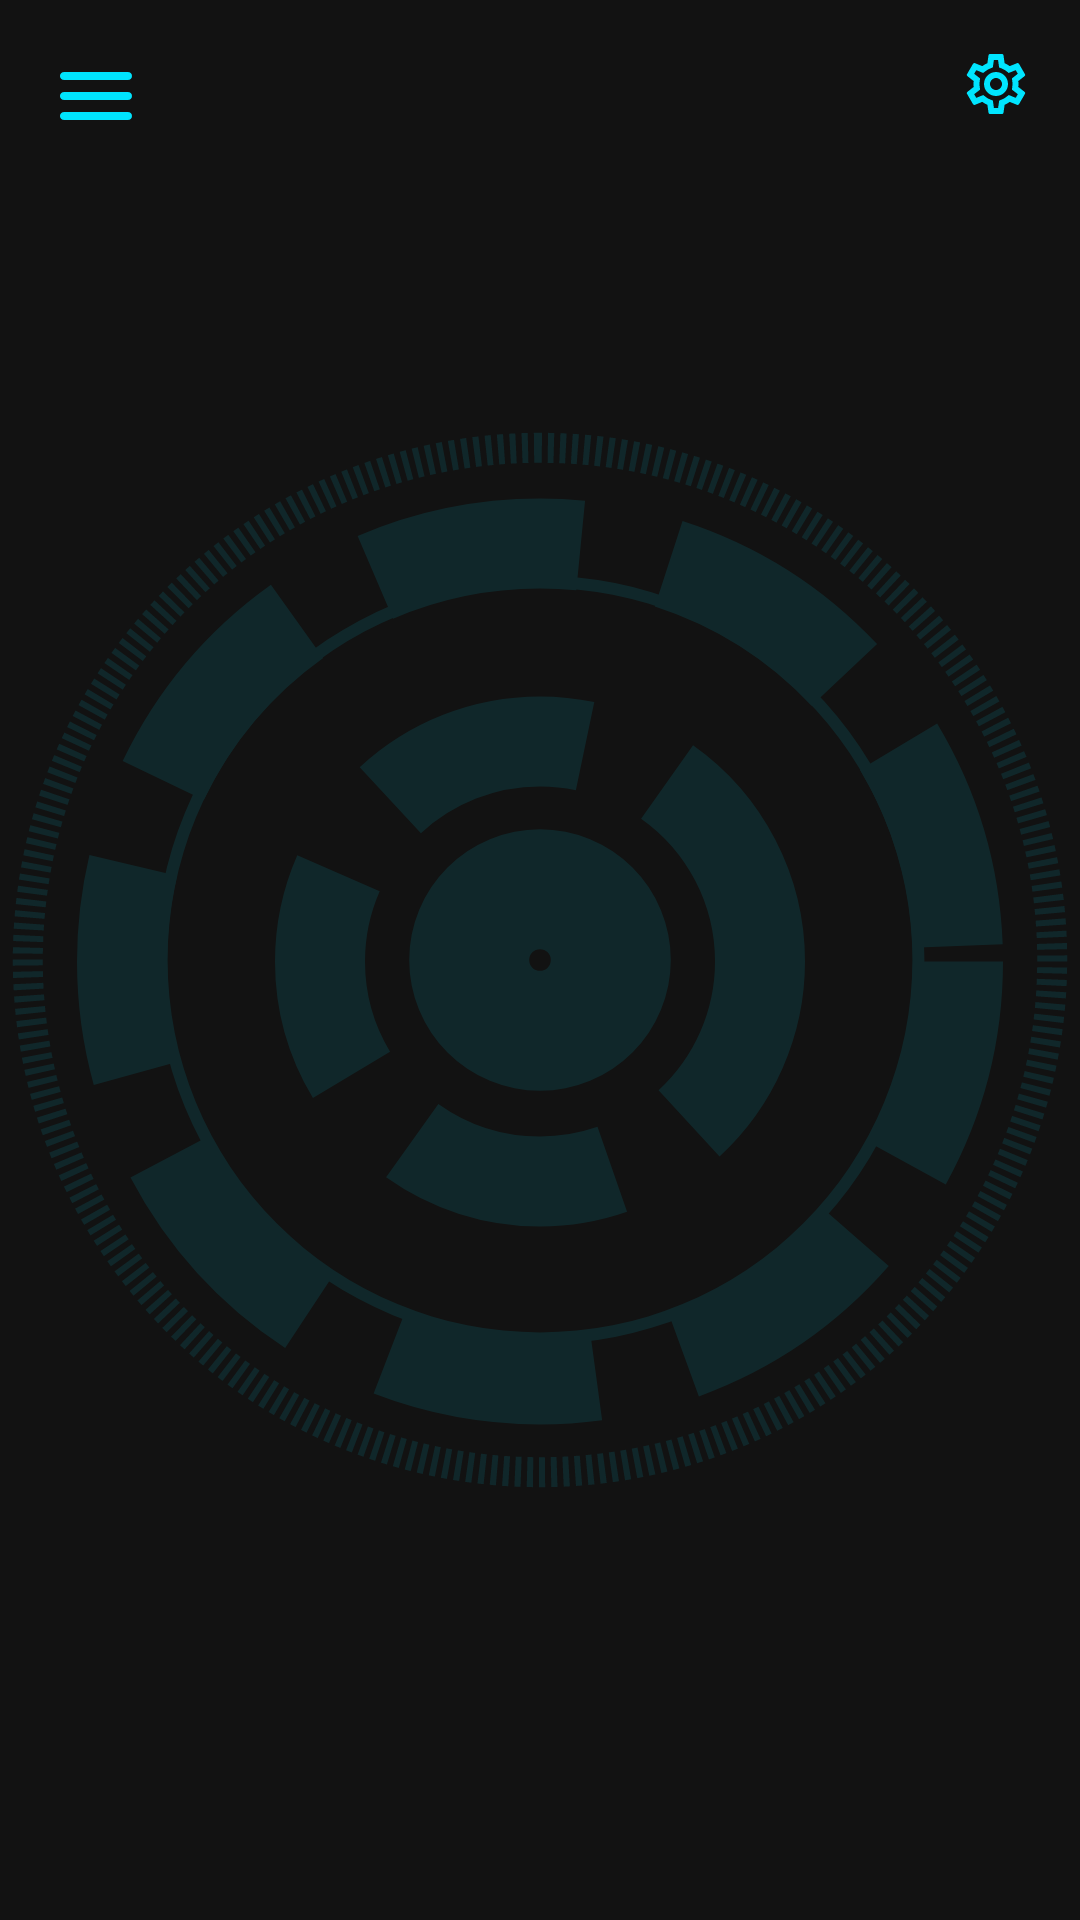

Icons on this 1080×1920 Android screen, each with its box as (x1, y1, x2, y2):
menu: (60, 72, 132, 120)
settings: (966, 54, 1025, 114)
